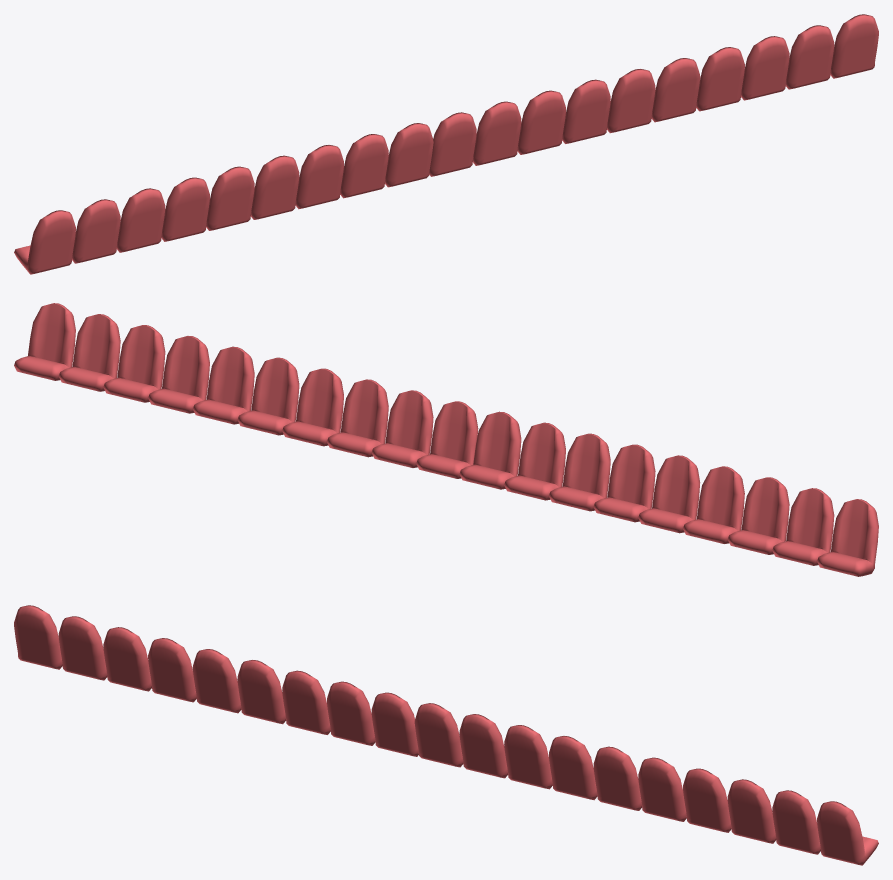
File: Mesh Sits.fbx
3 renders of one model, top to bottom at view 1: azimuth 30°, elevation 25°; view 2: azimuth 150°, elevation 25°; view 3: azimuth 330°, elevation 25°, orthographic.
Parts seen in each view (by area): view 1: pCube24; view 2: pCube24; view 3: pCube24.
Part boxes in pixels (x1,y1,x2,y2): pCube24: (14,14,878,274); pCube24: (14,303,878,576); pCube24: (14,605,878,865).
Size of the model in its own units: 199 by 3746 by 272.
